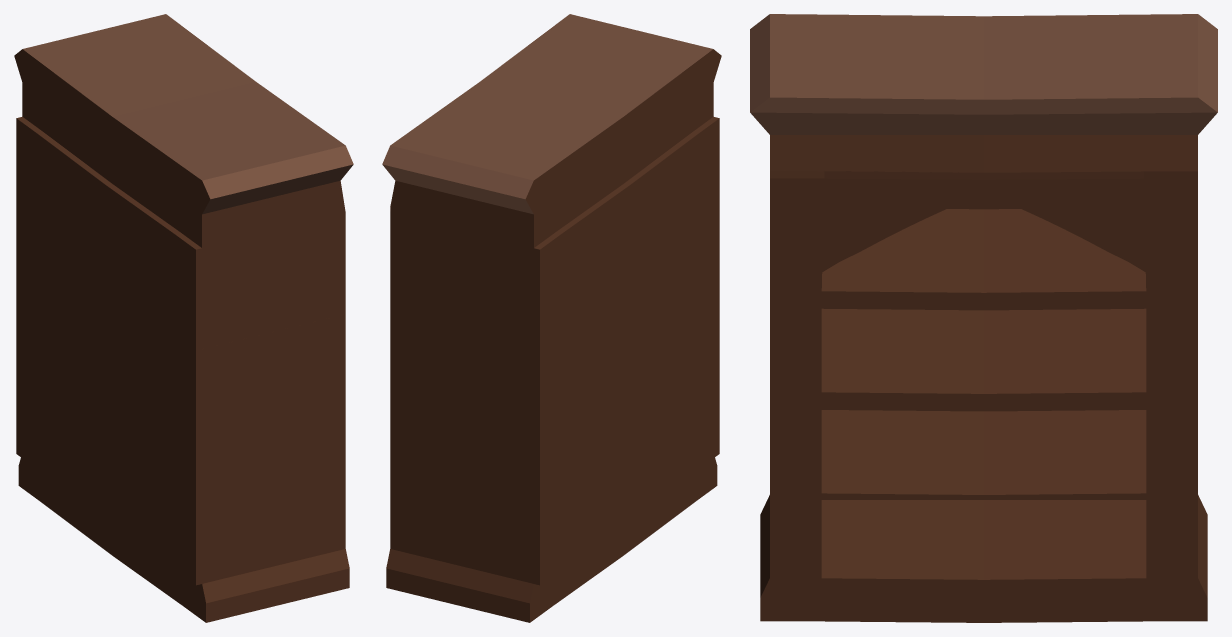
Rendered from Estante_Cicero_56670.fbx.
3 views of the same model, side by side, from view 1: azimuth 30°, elevation 25°; view 2: azimuth 150°, elevation 25°; view 3: azimuth 270°, elevation 25° (orthographic). The views are drawn at different scales.
Parts seen in each view (by area): view 1: Plane, Plane.001; view 2: Plane, Plane.001; view 3: Plane, Plane.001.
Boxes of the visible parts, x1,y1,x2,y2 form: Plane: [14, 49, 349, 622]; Plane.001: [23, 14, 353, 214]; Plane: [386, 49, 721, 622]; Plane.001: [382, 14, 712, 214]; Plane: [760, 135, 1207, 622]; Plane.001: [750, 14, 1217, 134].
Bounding box in the file's own units: 69.32 × 195 × 157.
